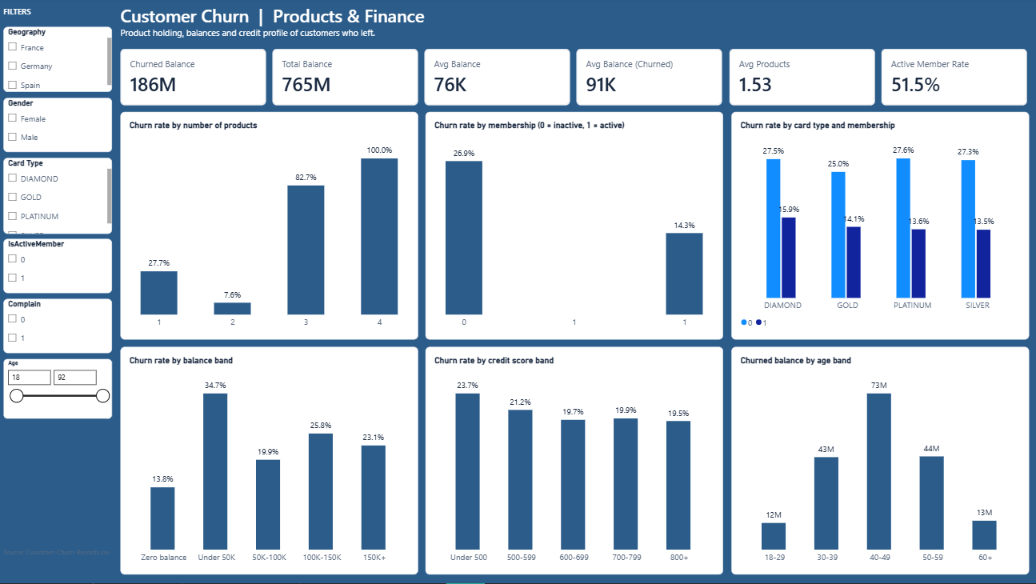

What the dashboard file says about the page in this screenshot:
{"tool":"powerbi","page":{"name":"Products & Finance","canvas":[1920,1080],"ordinal":2},"visuals":[{"type":"cardVisual","fields":{"Data":["_Measures.Churned Balance","_Measures.Total Balance","_Measures.Avg Products","_Measures.Avg Balance (Churned)","_Measures.Active Member Rate"]},"box":[1533,0,386,1080],"z":0},{"type":"slicer","fields":{"Values":["Customer-Churn-Records.Geography"]},"box":[16,16,200,120],"z":23000},{"type":"slicer","fields":{"Values":["Customer-Churn-Records.Gender"]},"box":[16,146,200,100],"z":24000},{"type":"slicer","fields":{"Values":["Customer-Churn-Records.Card Type"]},"box":[16,256,200,140],"z":25000},{"type":"slicer","fields":{"Values":["Customer-Churn-Records.IsActiveMember"]},"box":[16,406,200,100],"z":26000},{"type":"slicer","fields":{"Values":["Customer-Churn-Records.Complain"]},"box":[16,516,200,100],"z":27000},{"type":"slicer","fields":{"Values":["Customer-Churn-Records.Age"]},"box":[16,626,200,110],"z":28000},{"type":"columnChart","title":"Churn rate by number of products","fields":{"Category":["Customer-Churn-Records.NumOfProducts"],"Y":["_Measures.Churn Rate"]},"box":[232,16,636,338],"z":29000},{"type":"columnChart","title":"Churn rate by active membership (0 = inactive, 1 = active)","fields":{"Category":["Customer-Churn-Records.IsActiveMember"],"Y":["_Measures.Churn Rate"]},"box":[884,16,636,338],"z":30000},{"type":"columnChart","title":"Churn rate by balance band","fields":{"Category":["Customer-Churn-Records.Balance Band"],"Y":["_Measures.Churn Rate"]},"box":[232,370,636,338],"z":31000},{"type":"columnChart","title":"Churn rate by credit score band","fields":{"Category":["Customer-Churn-Records.Credit Band"],"Y":["_Measures.Churn Rate"]},"box":[884,370,636,338],"z":32000},{"type":"clusteredColumnChart","title":"Churn rate by card type and activity","fields":{"Category":["Customer-Churn-Records.Card Type"],"Series":["Customer-Churn-Records.IsActiveMember"],"Y":["_Measures.Churn Rate"]},"box":[232,724,636,338],"z":33000},{"type":"columnChart","title":"Churned balance by age band","fields":{"Category":["Customer-Churn-Records.Age Band"],"Y":["_Measures.Churned Balance"]},"box":[884,724,636,338],"z":34000}]}

Visuals, with their boxes in screenshot pixels (x1, y1, x2, y2), scaled from the page's 1920x1080 canvas onto the 1036x584 screenshot:
cardVisual - _Measures.Churned Balance x _Measures.Total Balance: l=827, t=0, r=1035, b=583
slicer - Customer-Churn-Records.Geography: l=9, t=9, r=117, b=74
slicer - Customer-Churn-Records.Gender: l=9, t=79, r=117, b=133
slicer - Customer-Churn-Records.Card Type: l=9, t=138, r=117, b=214
slicer - Customer-Churn-Records.IsActiveMember: l=9, t=220, r=117, b=274
slicer - Customer-Churn-Records.Complain: l=9, t=279, r=117, b=333
slicer - Customer-Churn-Records.Age: l=9, t=339, r=117, b=398
"Churn rate by number of products" columnChart: l=125, t=9, r=468, b=191
"Churn rate by active membership (0 = inactive, 1 = active)" columnChart: l=477, t=9, r=820, b=191
"Churn rate by balance band" columnChart: l=125, t=200, r=468, b=383
"Churn rate by credit score band" columnChart: l=477, t=200, r=820, b=383
"Churn rate by card type and activity" clusteredColumnChart: l=125, t=391, r=468, b=574
"Churned balance by age band" columnChart: l=477, t=391, r=820, b=574
